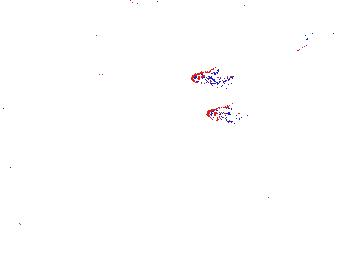red belly glassfish: (206, 102, 254, 126), (189, 70, 236, 89)
redtail glassfish: (292, 19, 346, 52)
